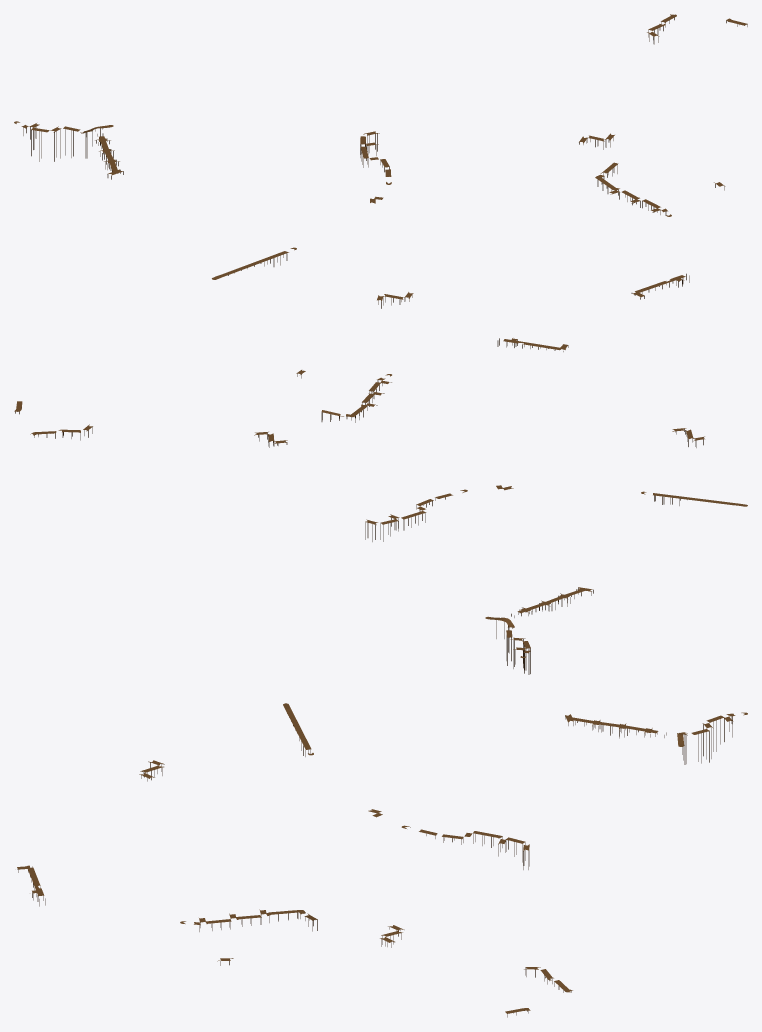
The model's file is manymouth-access.glb.
The picture shows the model from 3 angles, top to bottom: view 1: azimuth 30°, elevation 25°; view 2: azimuth 150°, elevation 25°; view 3: azimuth 270°, elevation 25°; orthographic projection. The views are drawn at different scales.
Size of the model in its own units: 334 by 29.8 by 306.
